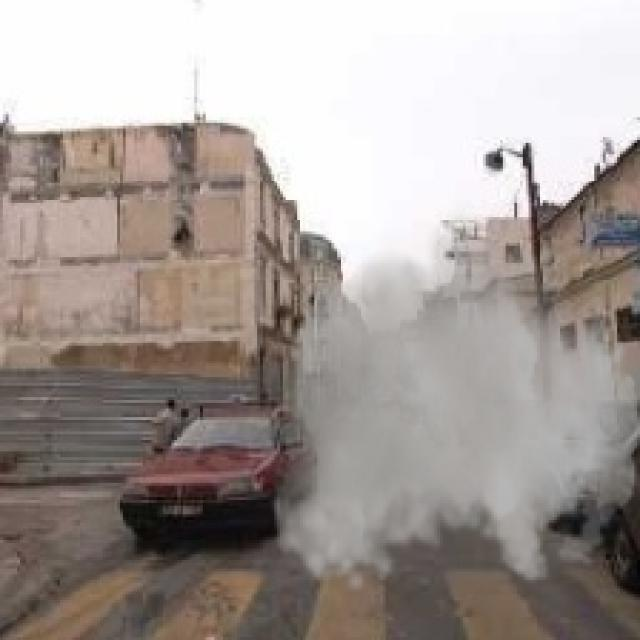Smoke: (272, 200, 637, 597)
